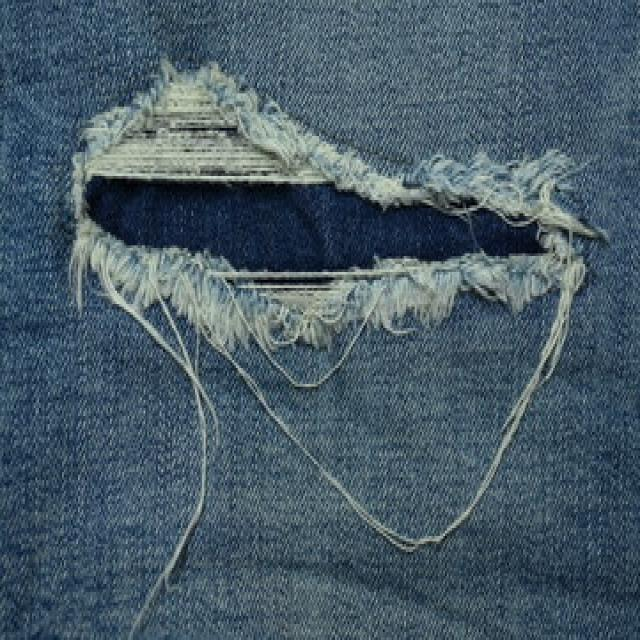Hole: (71, 61, 604, 552)
